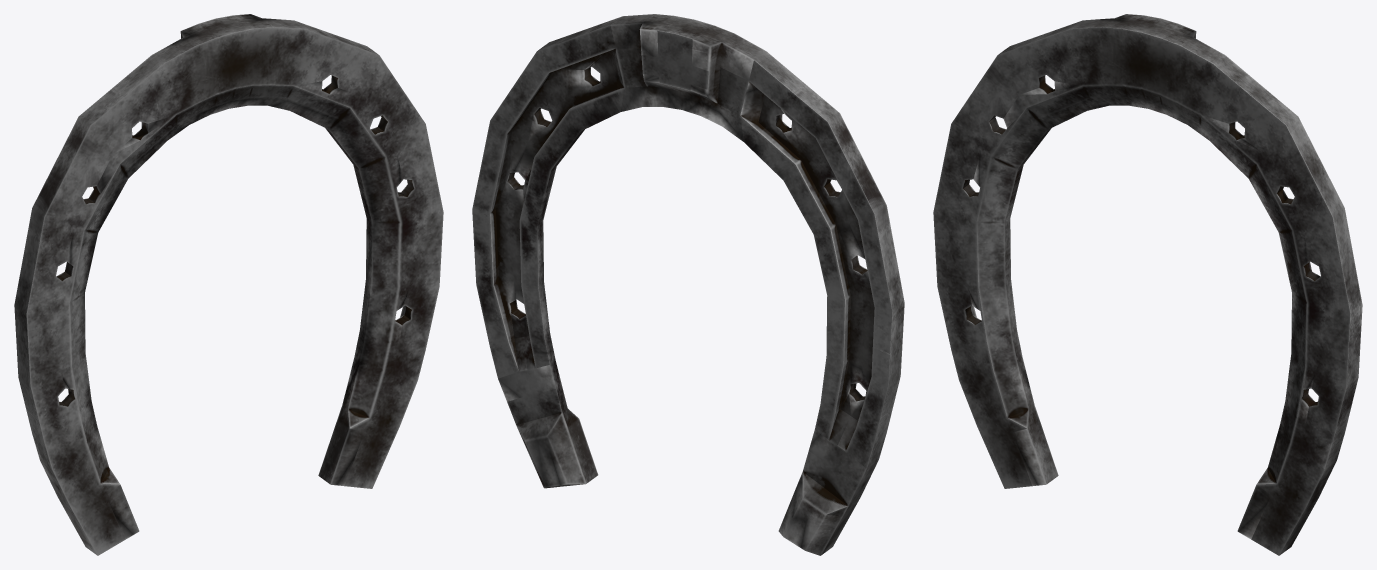
The model's file is newferradura-v1.glb.
3 views of the same model, side by side, from view 1: azimuth 30°, elevation 25°; view 2: azimuth 150°, elevation 25°; view 3: azimuth 330°, elevation 25° (orthographic).
Parts seen in each view (by area): view 1: Horse_Shoe_lambert2_0; view 2: Horse_Shoe_lambert2_0; view 3: Horse_Shoe_lambert2_0.
Part boxes in pixels (x1=…): Horse_Shoe_lambert2_0: x1=14, y1=14, x2=443, y2=555; Horse_Shoe_lambert2_0: x1=472, y1=14, x2=904, y2=555; Horse_Shoe_lambert2_0: x1=933, y1=14, x2=1362, y2=555.
Size of the model in its own units: 49.49 by 55.54 by 4.
1 material, 1 textured.
